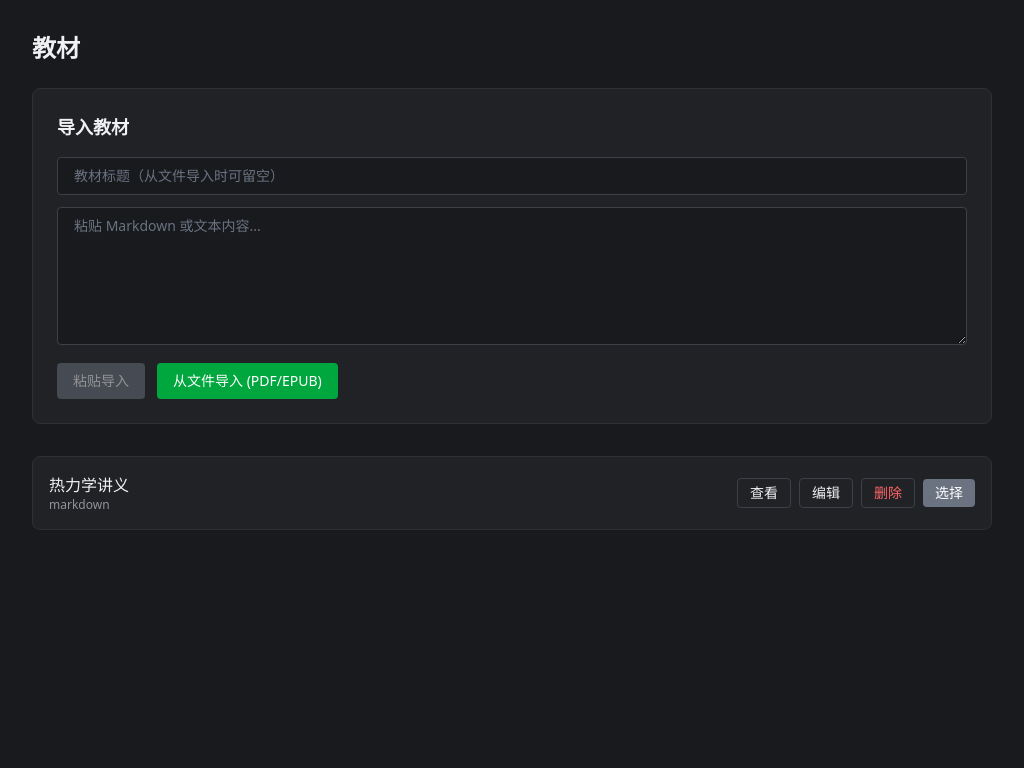
it: TextbooksView — import › surfaces a non-Error paste-import failure
Type "x" into the field with placeholder "教材标题（从文件导入时可留空）" at (512, 176), box [57,157,967,195]
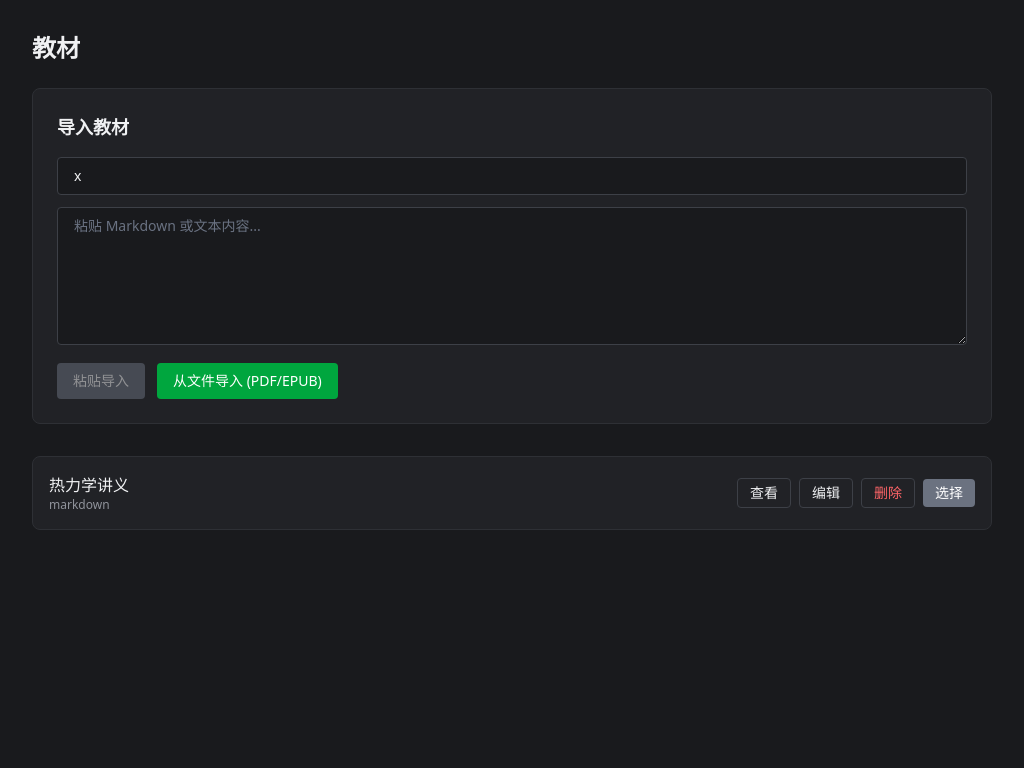
Type "y" into the text box with placeholder "粘贴 Markdown 或文本内容..." at (512, 276), box [57,207,967,345]
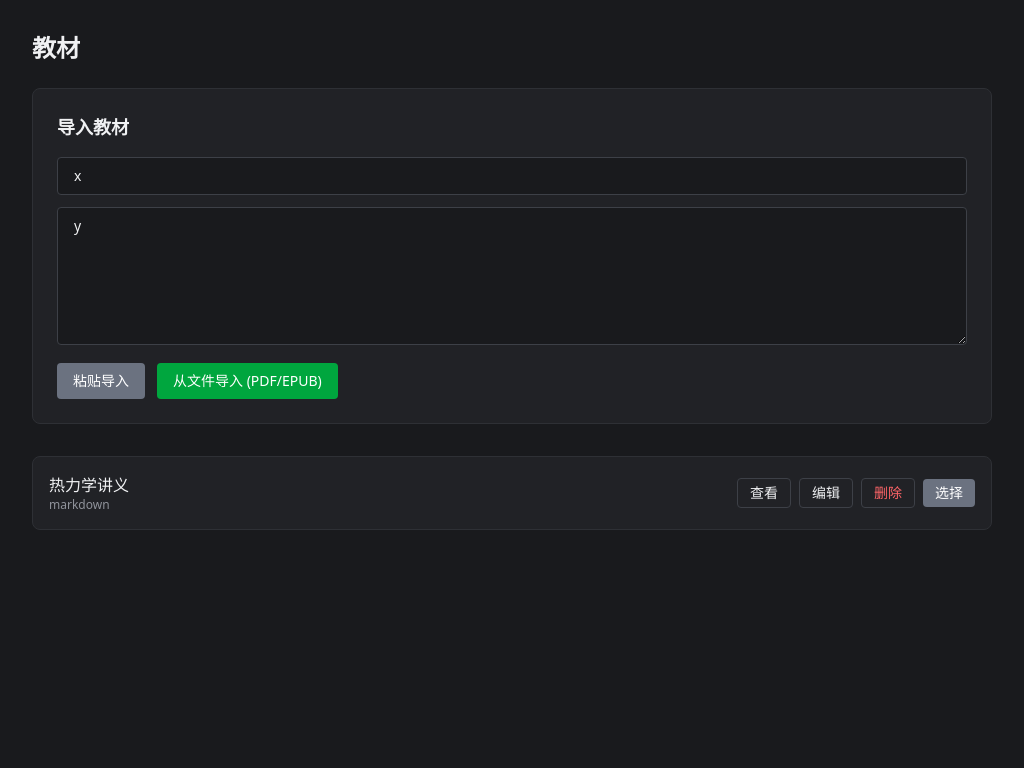
Click the button "粘贴导入" at (101, 381), box [57,363,145,399]
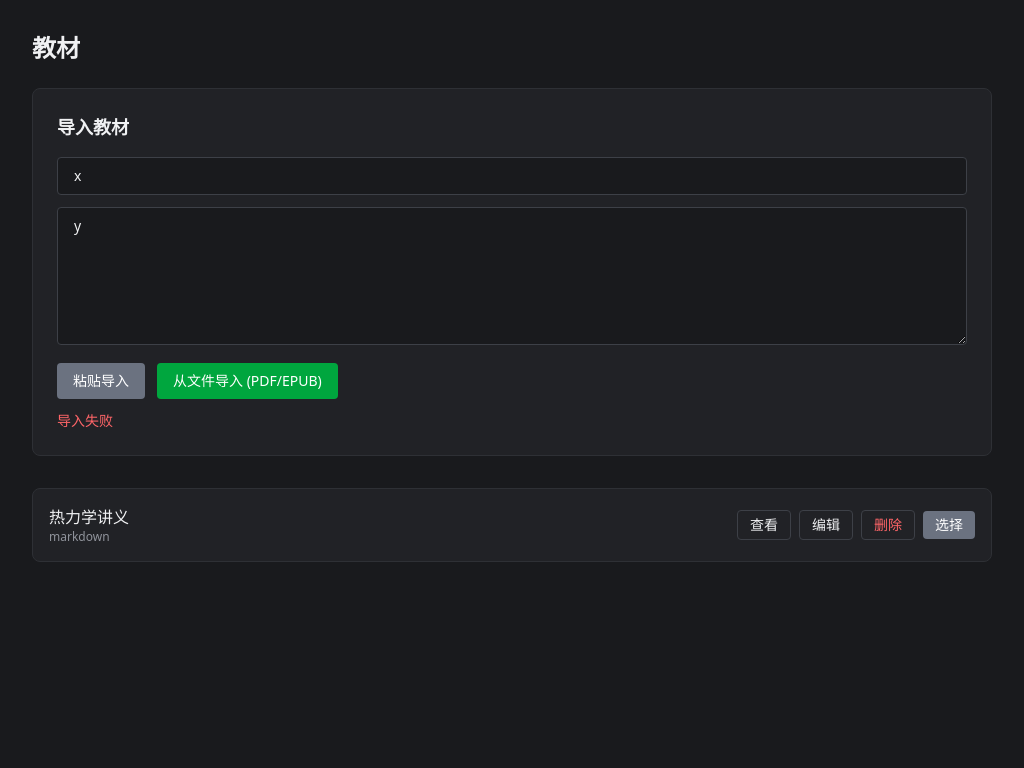
Check: the text "导入失败" is shown, box [57,411,113,430]
